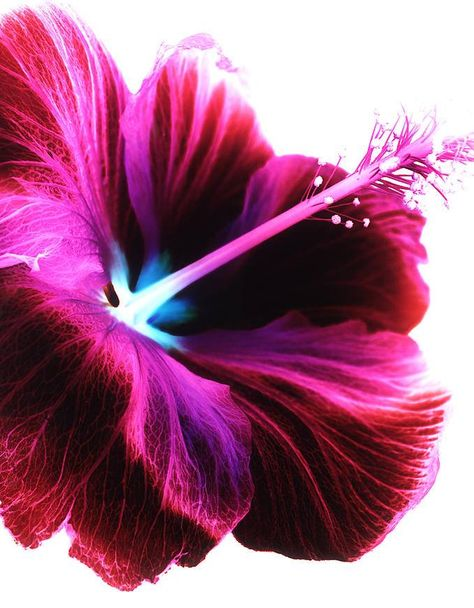Hibiscus: (1, 10, 468, 594)
